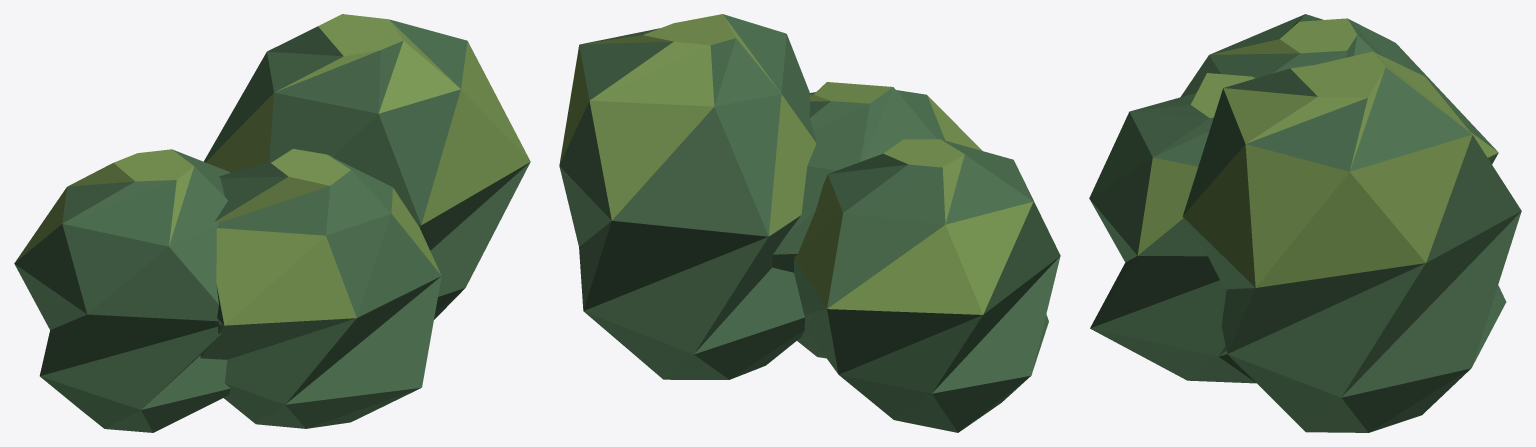
File: SHRUB_02.glb
3 views of the same model, side by side, from view 1: azimuth 30°, elevation 25°; view 2: azimuth 150°, elevation 25°; view 3: azimuth 270°, elevation 25° (orthographic). The views are drawn at different scales.
Visible parts, largest first — view 1: CIVRUM_GAME_SHRUB_02; view 2: CIVRUM_GAME_SHRUB_02; view 3: CIVRUM_GAME_SHRUB_02.
Part boxes in pixels (box(x1,y1,x2,y2)): CIVRUM_GAME_SHRUB_02: box(14, 14, 530, 432); CIVRUM_GAME_SHRUB_02: box(559, 14, 1060, 432); CIVRUM_GAME_SHRUB_02: box(1089, 14, 1521, 432).
Size of the model in its own units: 1.68 by 1.14 by 1.25.
